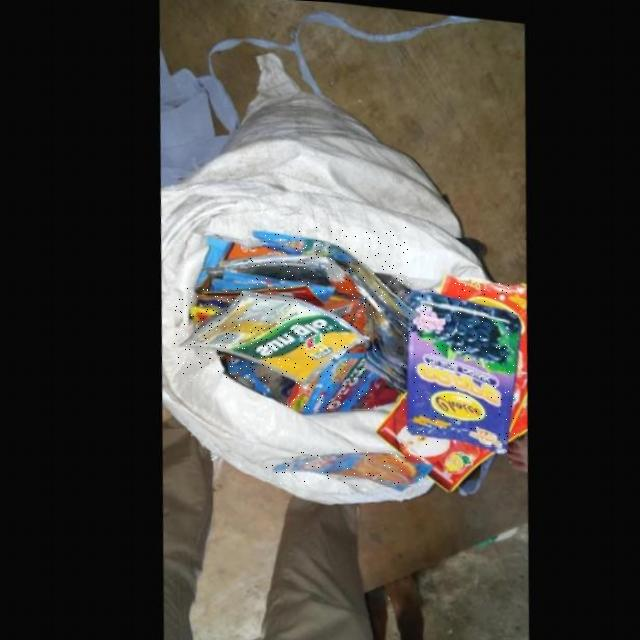wrapper: (401, 284, 519, 446), (175, 288, 362, 381), (249, 228, 409, 316), (266, 449, 423, 486), (281, 350, 376, 410)
